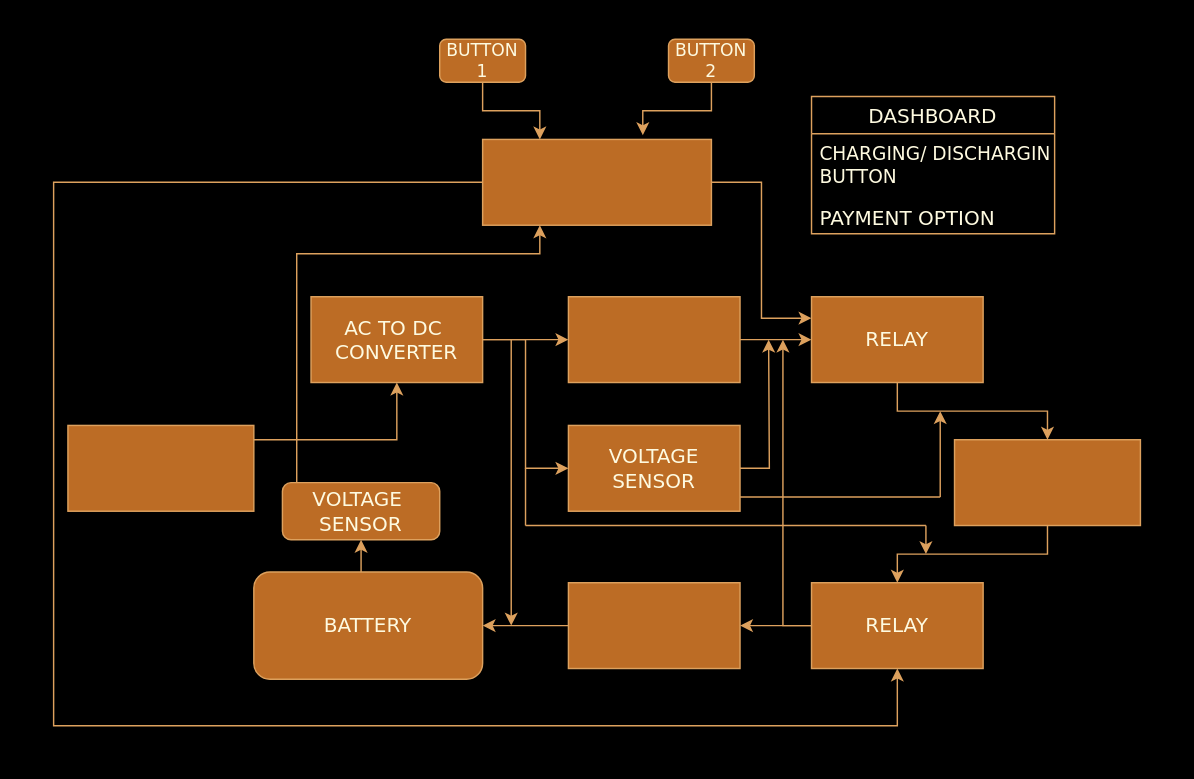
This 1194x779 diagram has some shape labels left out. Here are the shapes that lost their labels. From the top down, the box of each, then its label:
(481, 138, 711, 225): NODE RED
(567, 295, 740, 383): CURRENT SENSOR
(66, 424, 254, 511): GRID
(953, 438, 1140, 526): ELECTRIC VEHICLE
(567, 581, 740, 669): DC TO DC CONVERTER
